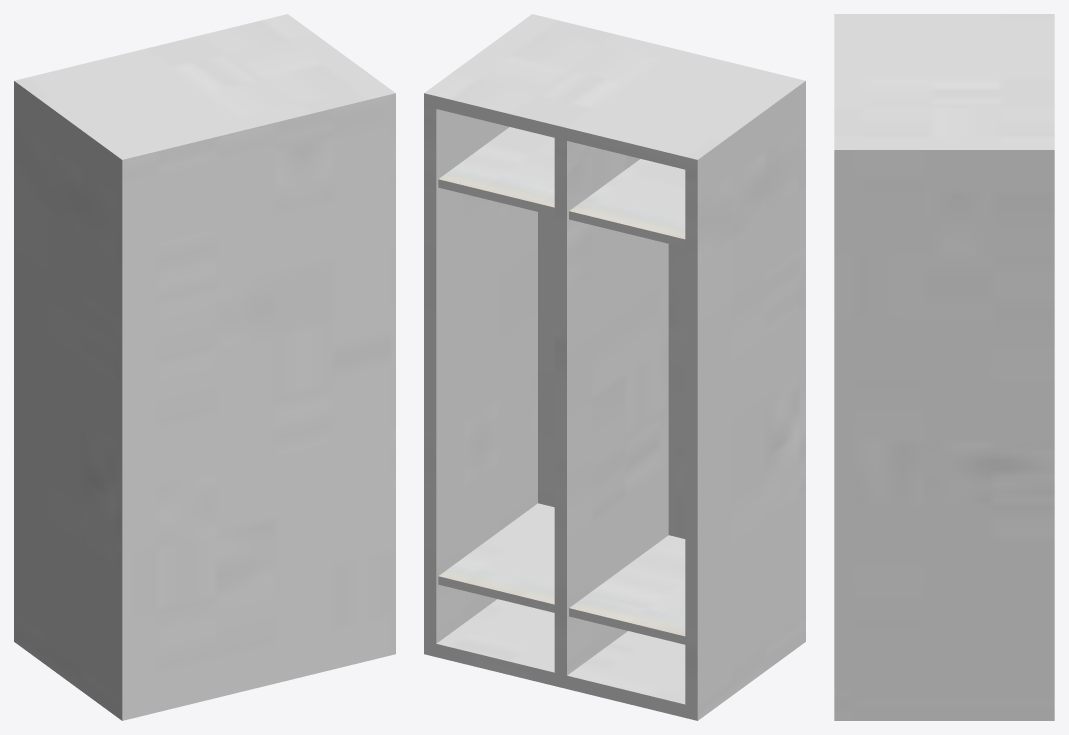
The model's file is Closet04.glb.
3 renders of one model, left to right at view 1: azimuth 30°, elevation 25°; view 2: azimuth 150°, elevation 25°; view 3: azimuth 270°, elevation 25°, orthographic.
Parts seen in each view (by area): view 1: Closet04_model; view 2: Closet04_model; view 3: Closet04_model.
Boxes of the visible parts, box(x1,y1,x2,y2) form: Closet04_model: box(14, 14, 395, 720); Closet04_model: box(424, 14, 805, 720); Closet04_model: box(834, 14, 1054, 720).
Bounding box in the file's own units: 2.86 × 5.6 × 1.96.
1 material, 1 textured.
